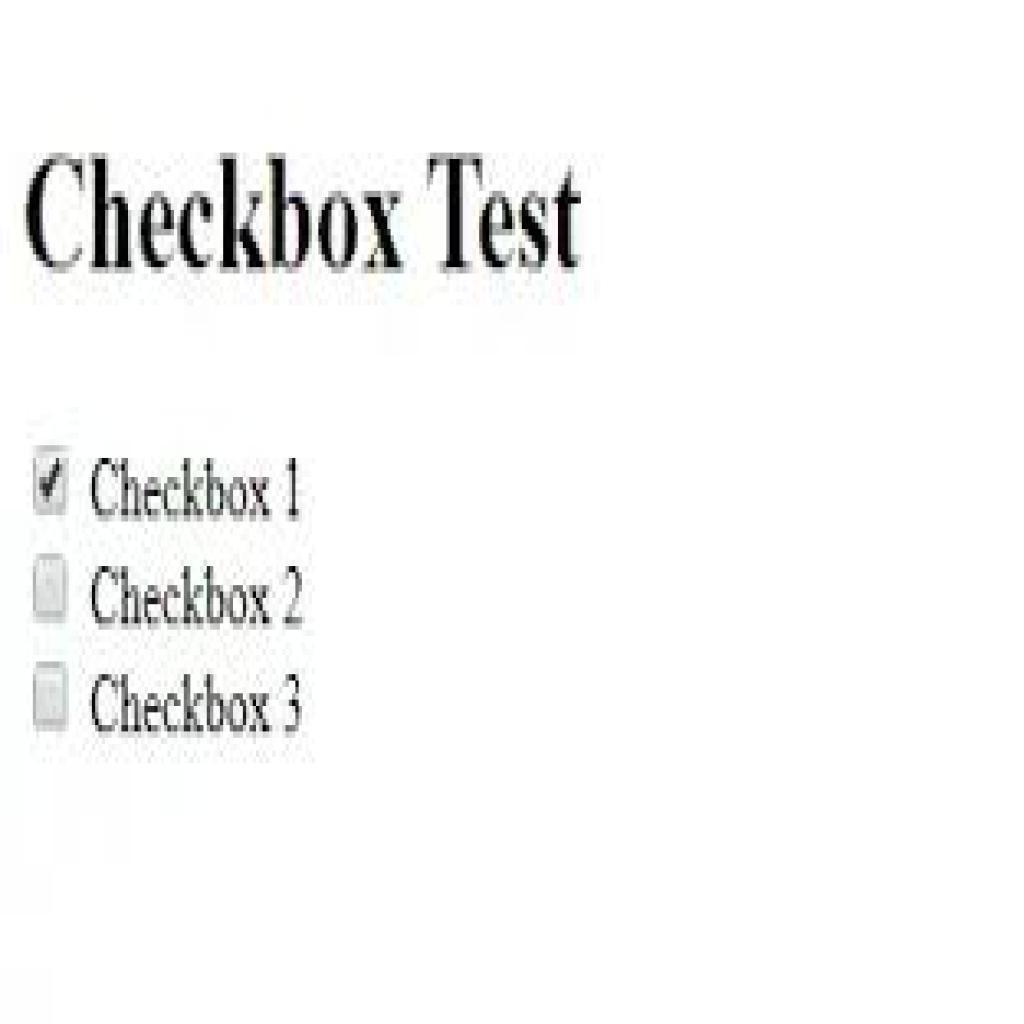checkbox: (30, 441, 73, 522), (32, 661, 73, 726), (33, 556, 71, 620)
